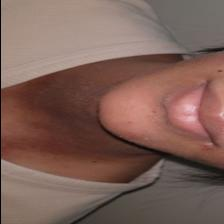DA: (100, 90, 170, 144)
